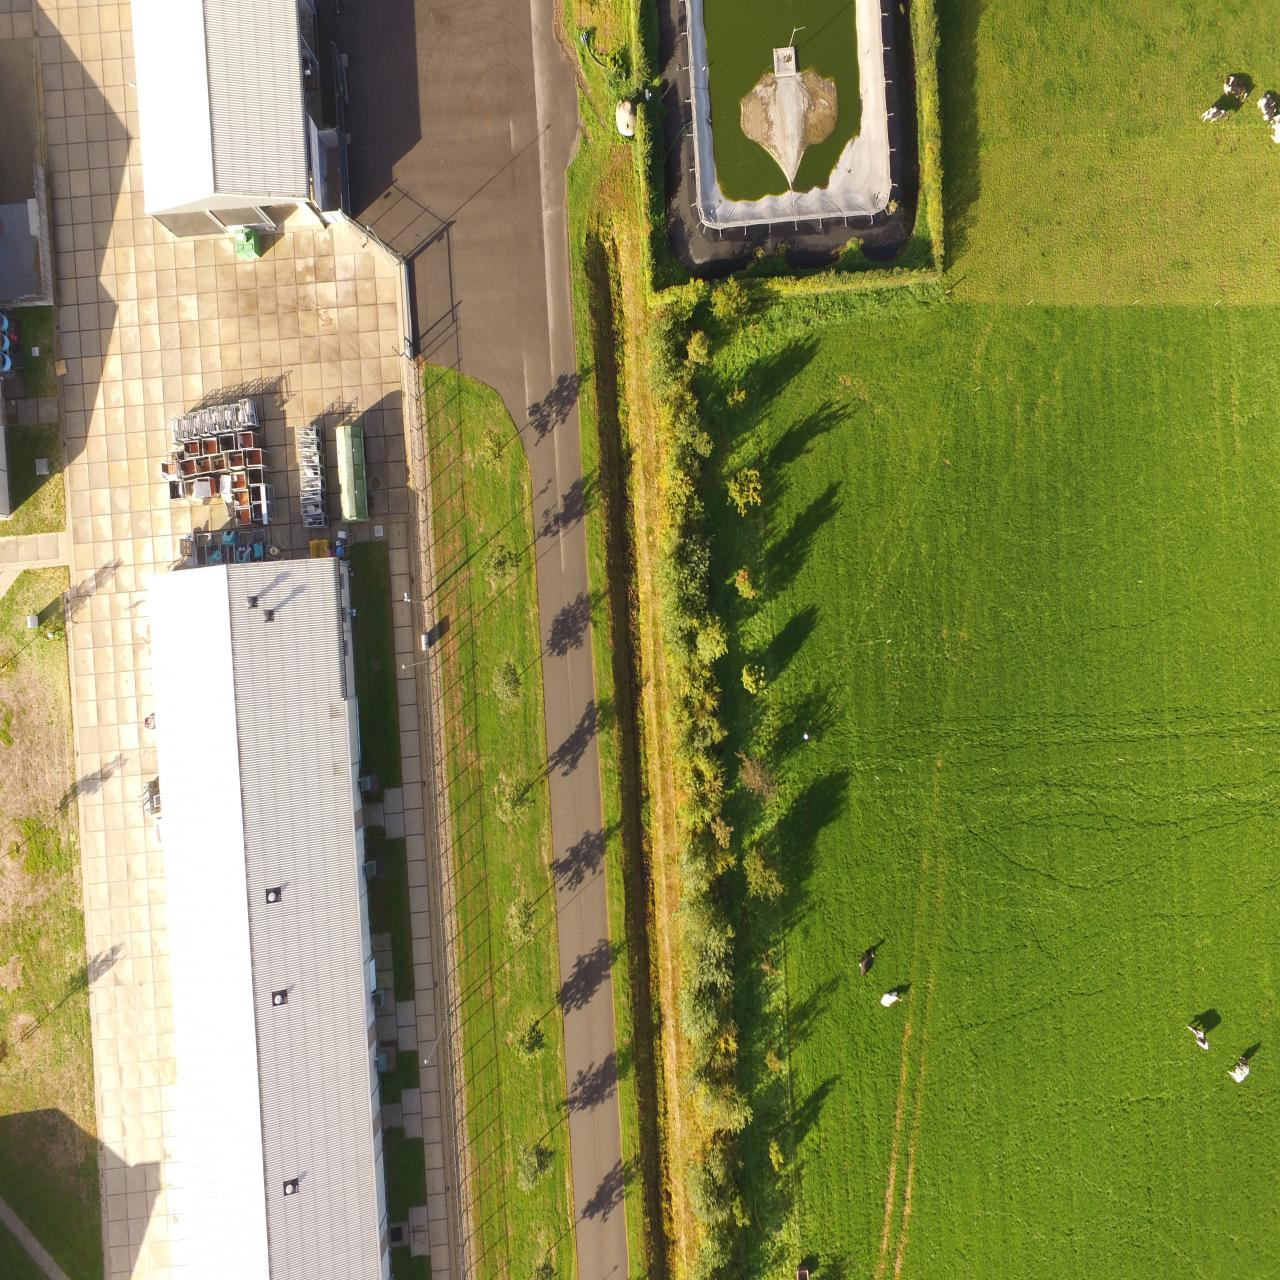cow: (1254, 89, 1280, 129), (1184, 1022, 1211, 1054), (1223, 70, 1247, 101), (1199, 103, 1228, 125), (853, 951, 877, 978), (1227, 1057, 1250, 1084), (874, 990, 904, 1008)
